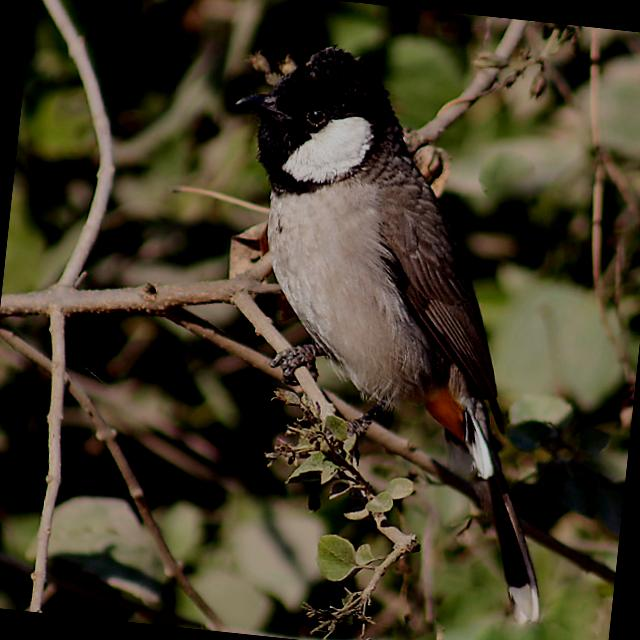bird: (174, 29, 624, 634)
